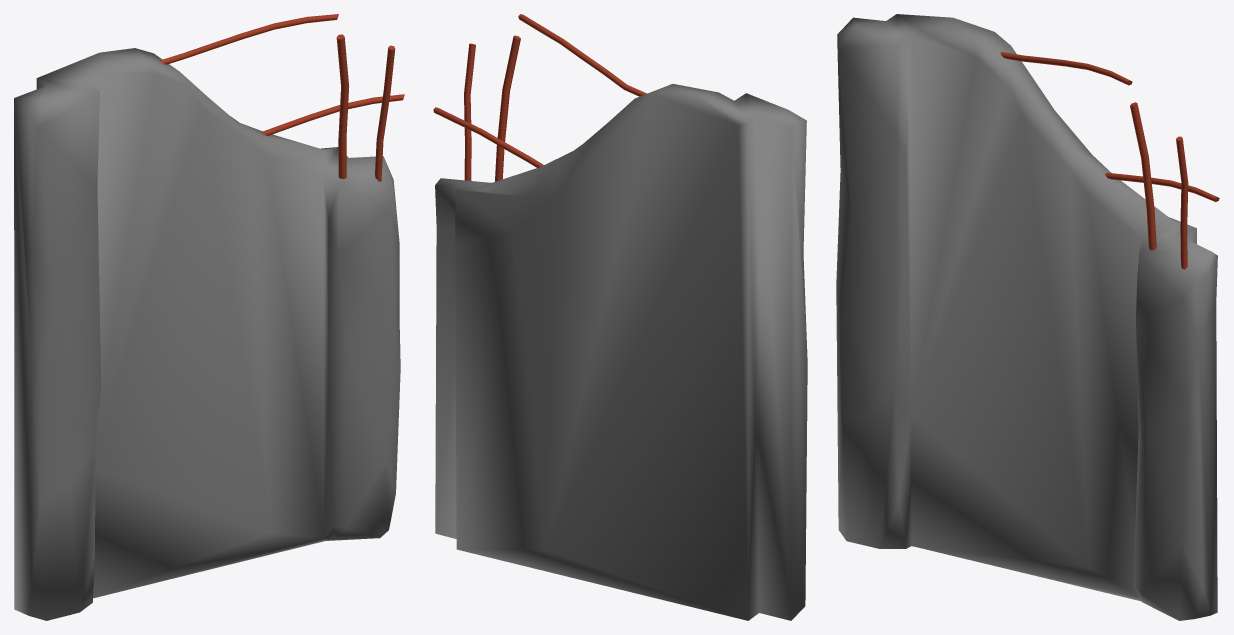
The model's file is SM_wall_niche_broken.fbx.
3 views of the same model, side by side, from view 1: azimuth 30°, elevation 25°; view 2: azimuth 150°, elevation 25°; view 3: azimuth 330°, elevation 25° (orthographic). The views are drawn at different scales.
Parts seen in each view (by area): view 1: Object018; view 2: Object018; view 3: Object018.
Part boxes in pixels (bbox=[...]): Object018: bbox=[14, 14, 404, 620]; Object018: bbox=[433, 14, 807, 620]; Object018: bbox=[836, 14, 1219, 620].
Size of the model in its own units: 101 by 137 by 17.16.
